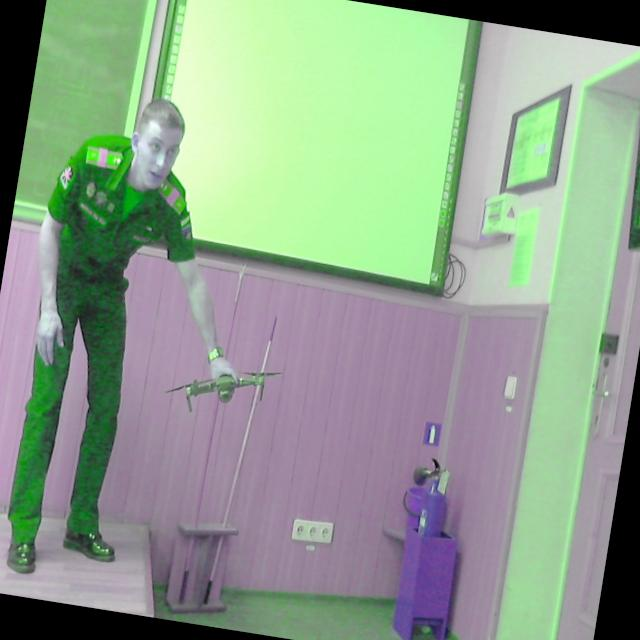drone: (164, 347, 294, 428)
